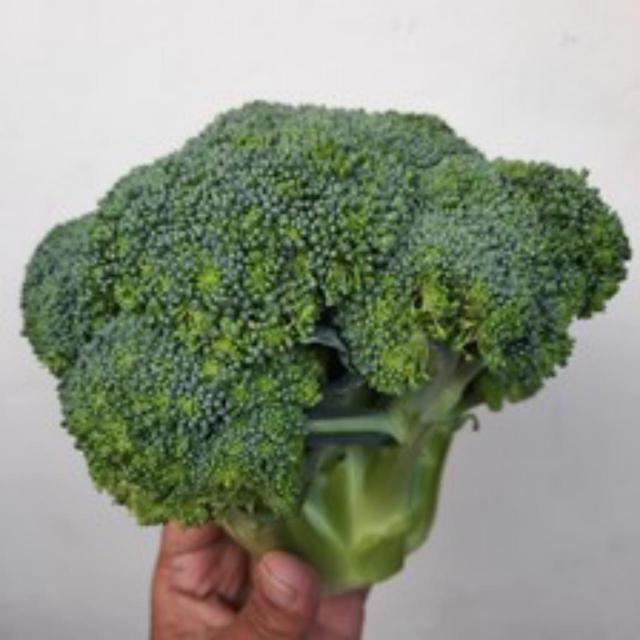broccoli: (8, 94, 637, 606)
